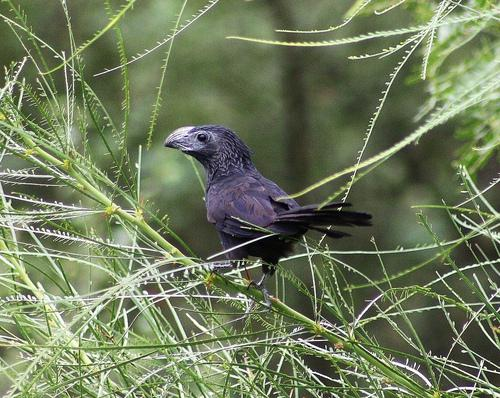004.Groove_billed_Ani: (163, 123, 373, 310)
